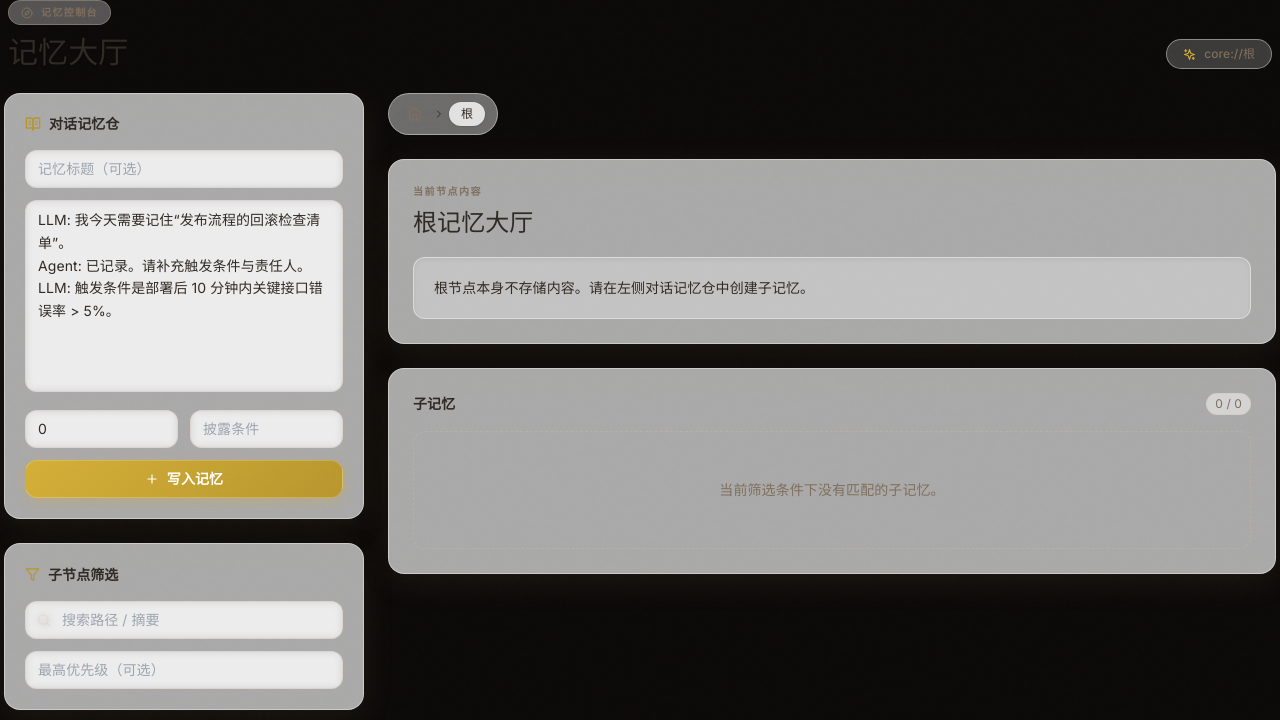
Test: MemoryBrowser › does not navigate and shows guard feedback when create returns created=false
Click the button "写入记忆" at (184, 479), box top-left (25, 460), bottom-right (343, 498)
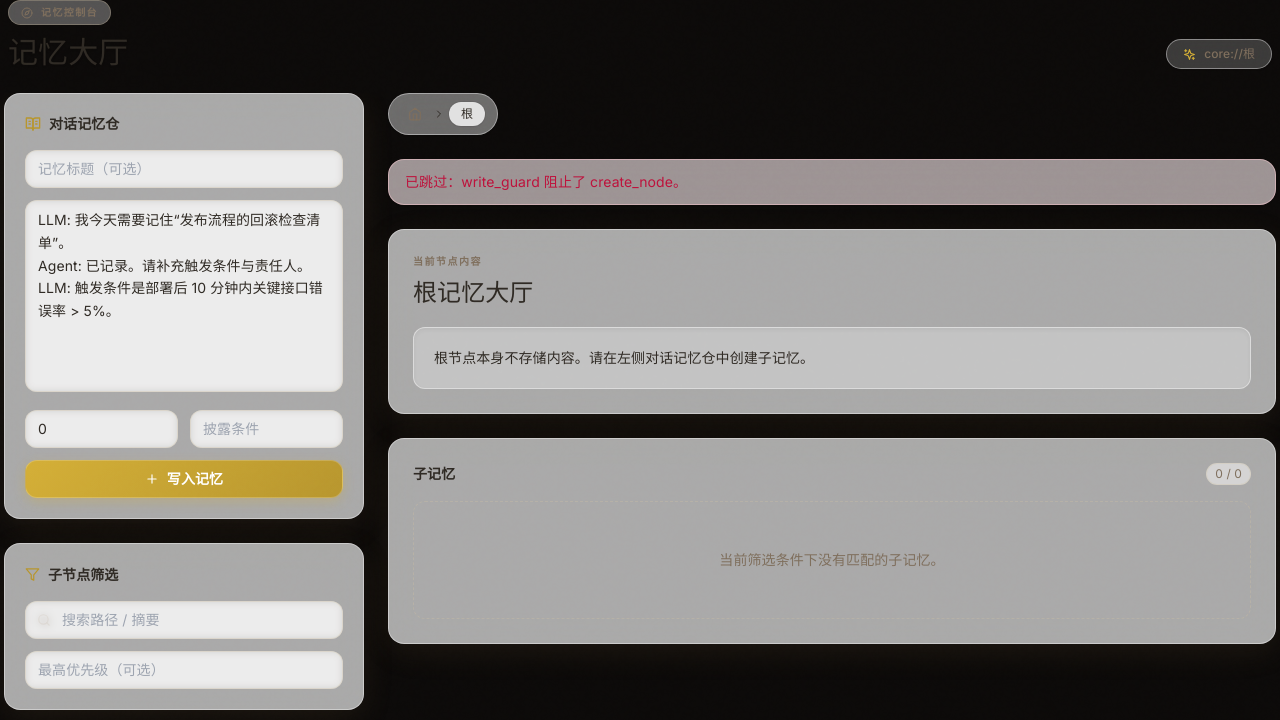
expect the text "已跳过：write_guard 阻止了 create_node。" is shown: met, box top-left (388, 159), bottom-right (1276, 205)
